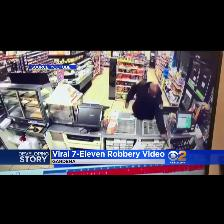person: (125, 81, 167, 139)
